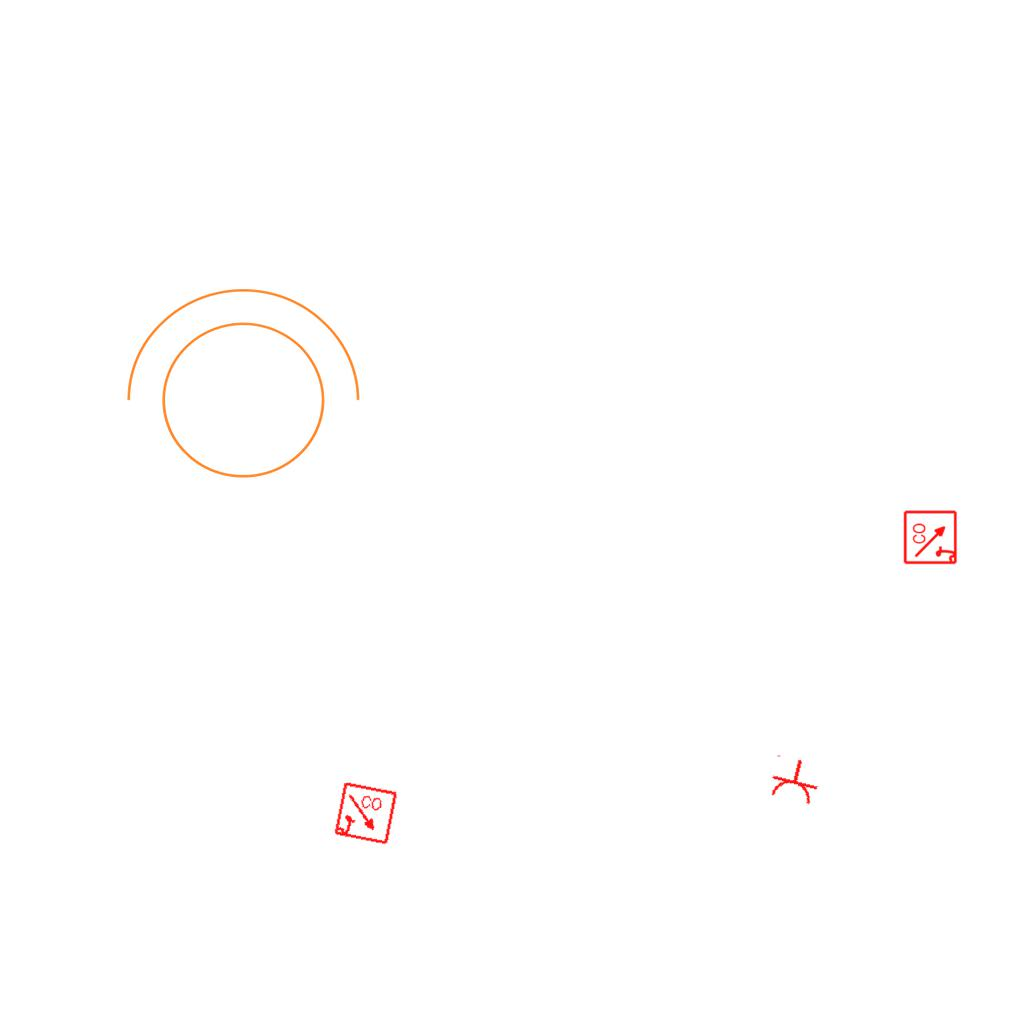ROA_Rauchmelder_optisch_mit_Signalgeber_(Sockelsirene): (333, 781, 399, 847), (903, 509, 959, 565)
Scheinwerfer_fuer_Alarmbeleuchtung: (105, 278, 369, 503)
Schukosteckdose_einfach: (765, 753, 824, 807)
